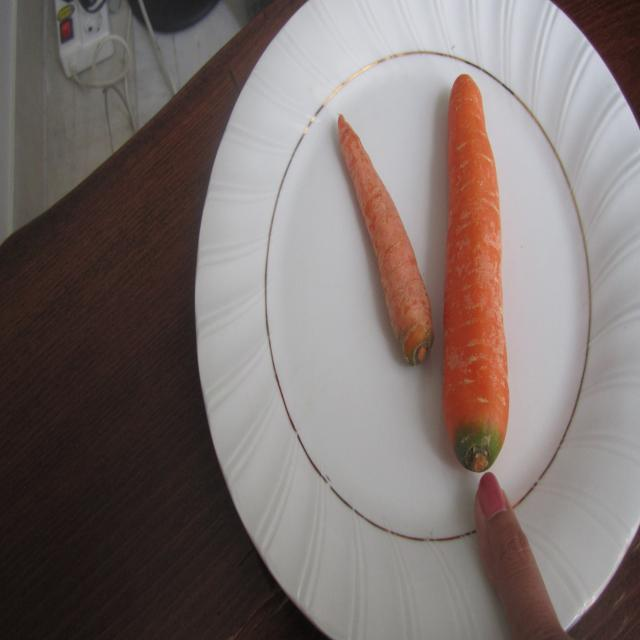carrot: (332, 65, 515, 468)
